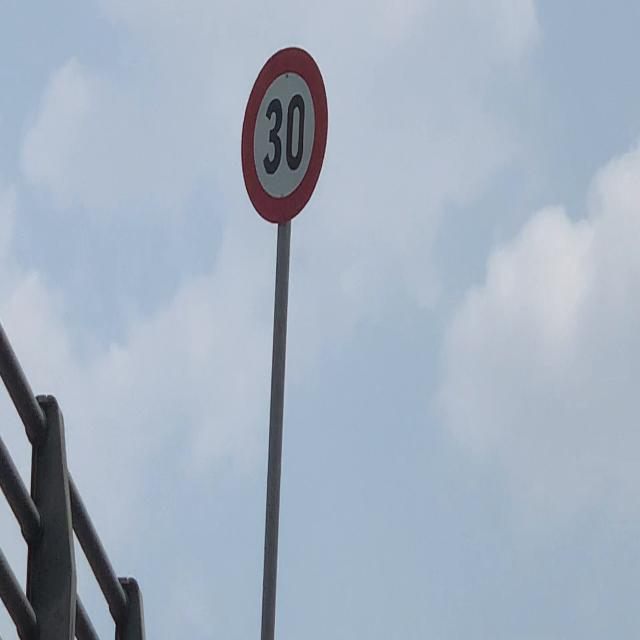Toc do toi da: (241, 46, 329, 225)
